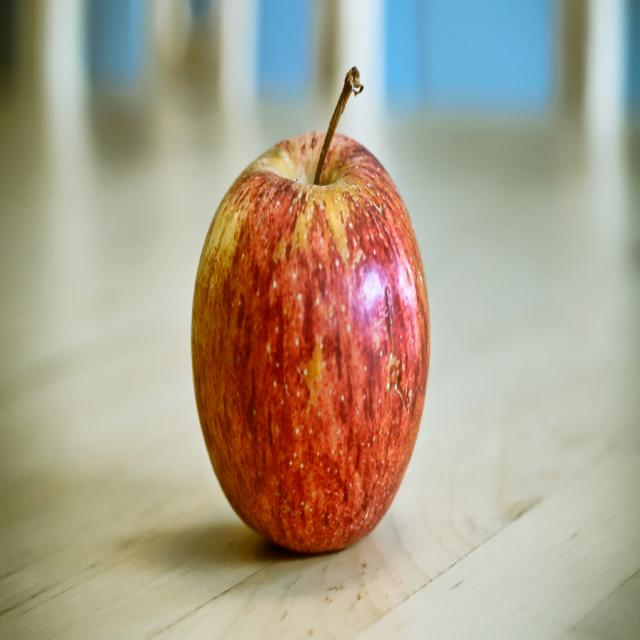Healty Apple: (197, 79, 426, 576)
